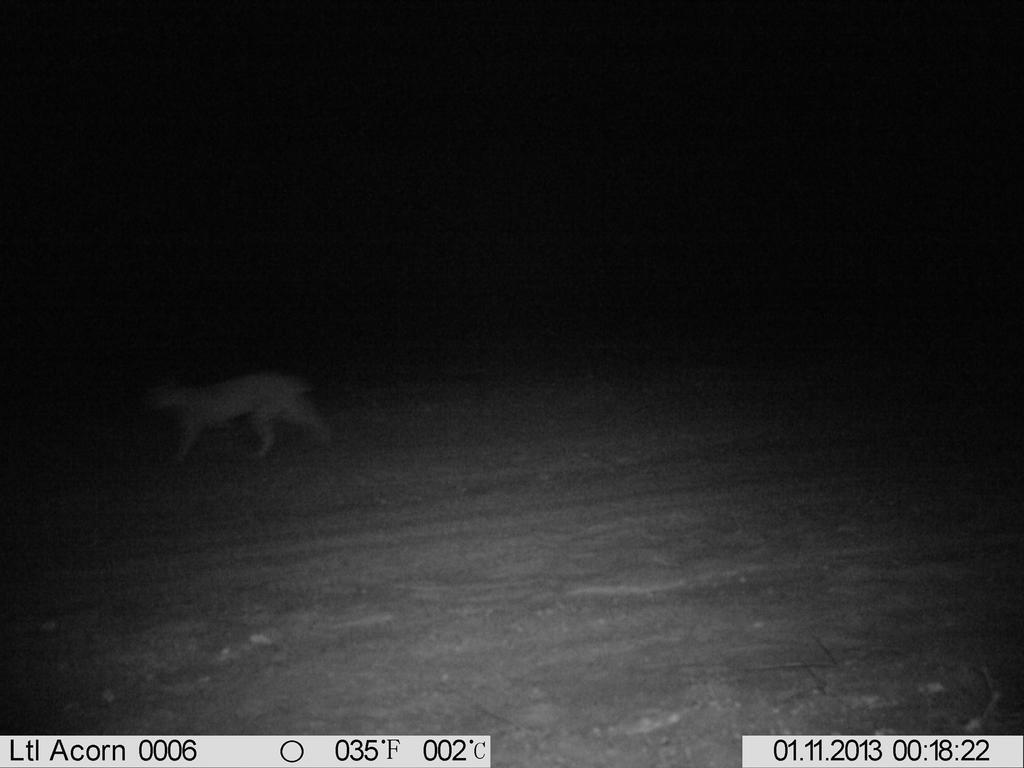bobcat: (114, 328, 346, 513)
